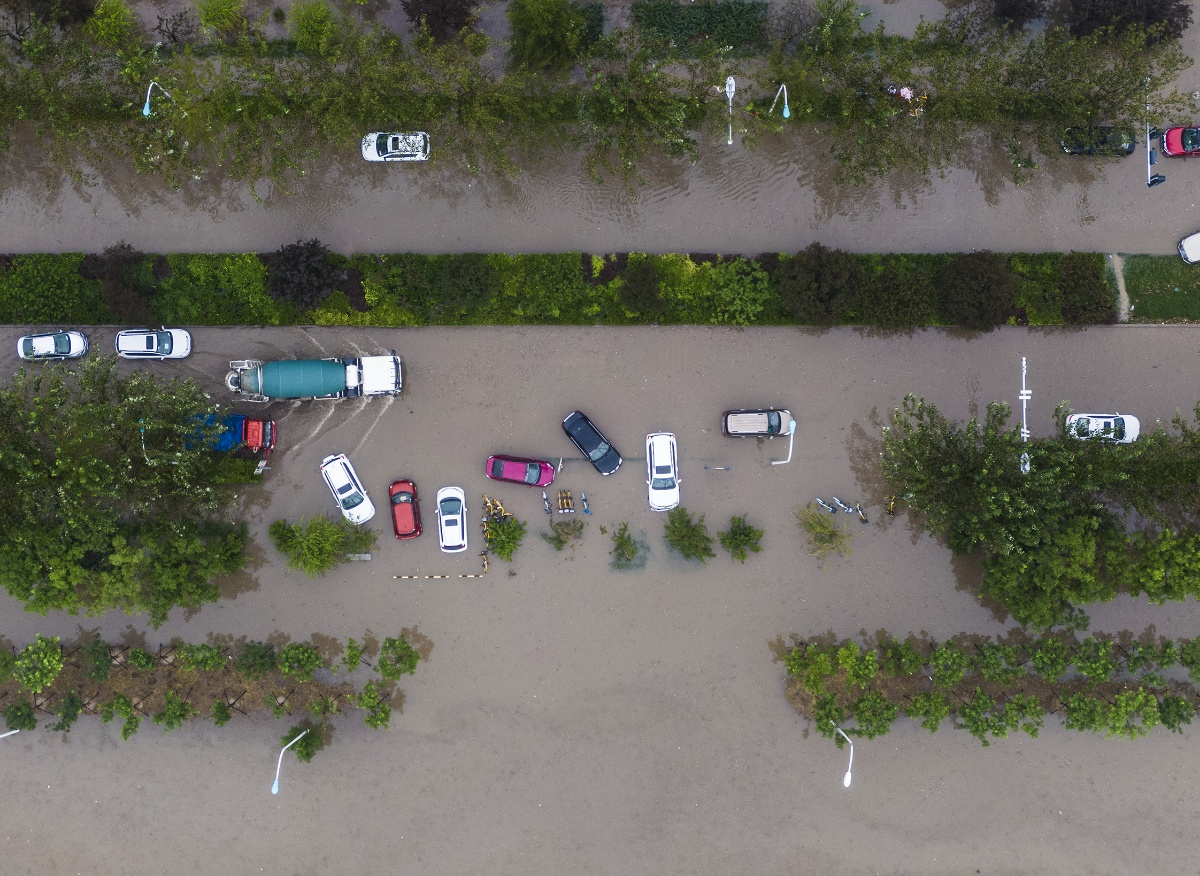puddle: (2, 702, 1200, 876), (304, 332, 928, 649), (8, 157, 1200, 252)
